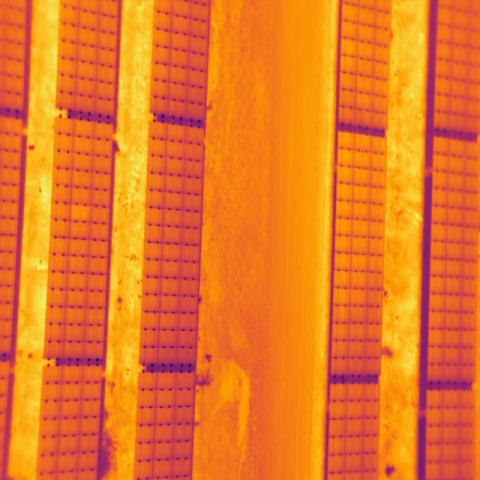fault: (71, 204, 91, 222)
